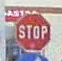stop: (13, 12, 51, 51)
